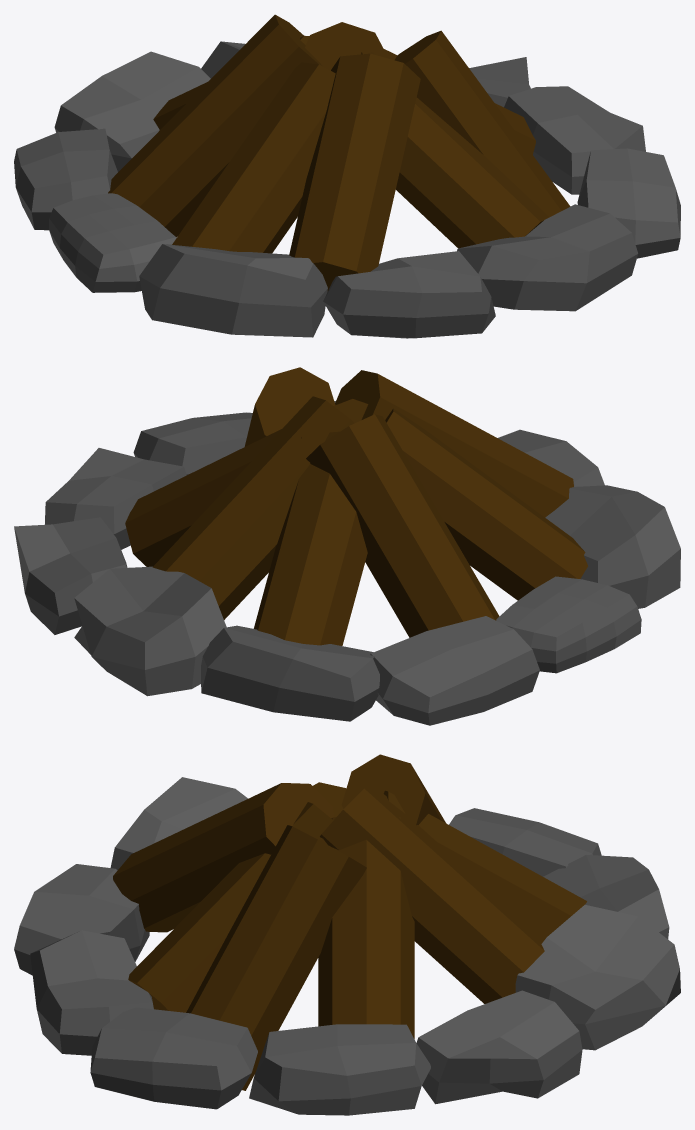
The model's file is Campfire3.fbx.
3 renders of one model, top to bottom at view 1: azimuth 30°, elevation 25°; view 2: azimuth 150°, elevation 25°; view 3: azimuth 270°, elevation 25°, orthographic. The views are drawn at different scales.
Parts seen in each view (by area): view 1: Cylinder.002; view 2: Cylinder.002; view 3: Cylinder.002.
Boxes of the visible parts, x1,y1,x2,y2 form: Cylinder.002: (14, 14, 680, 338); Cylinder.002: (14, 367, 680, 725); Cylinder.002: (14, 754, 680, 1115).
Bounding box in the file's own units: 817 × 339 × 831.
